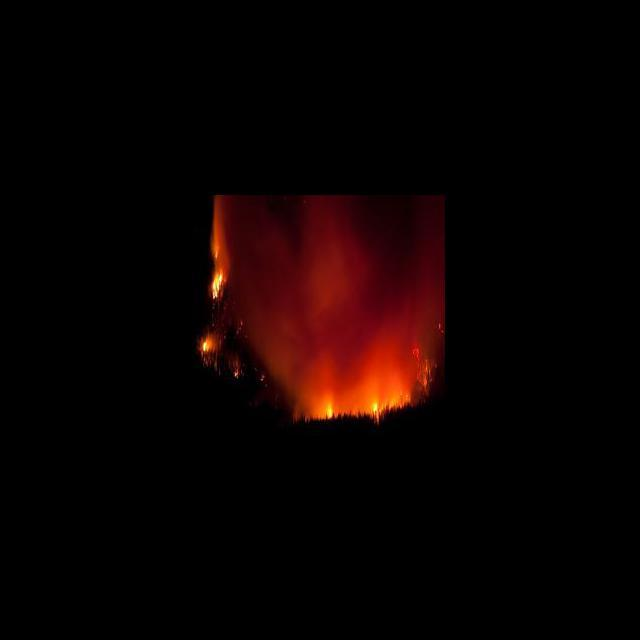Fire: (208, 264, 228, 300), (200, 335, 214, 354), (322, 400, 336, 419), (367, 398, 382, 414)
